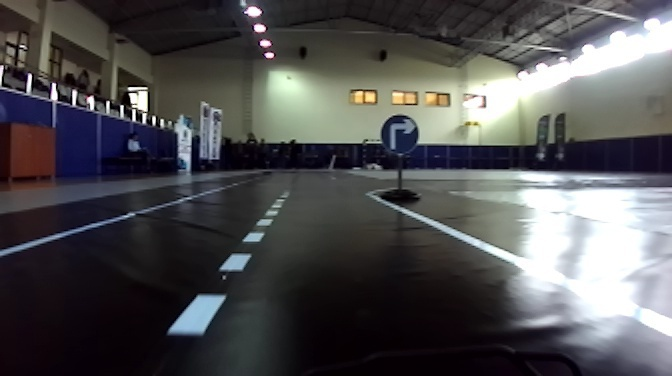saga_donus: (381, 114, 421, 154)
